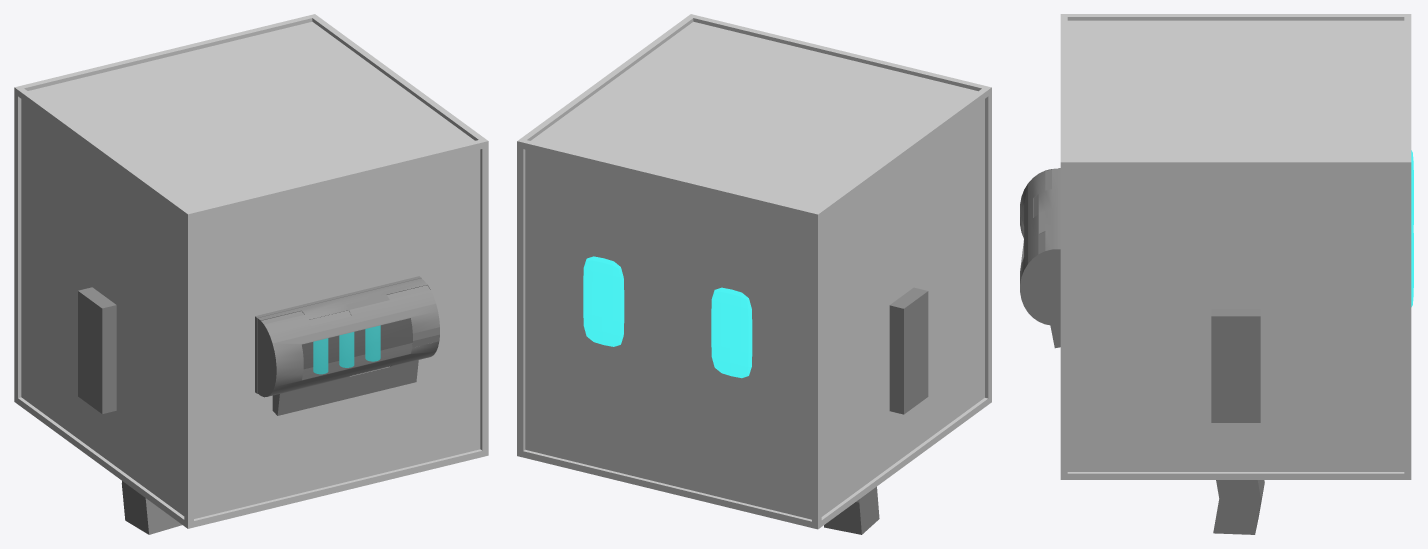
3 renders of one model, left to right at view 1: azimuth 30°, elevation 25°; view 2: azimuth 150°, elevation 25°; view 3: azimuth 270°, elevation 25°, orthographic.
Parts seen in each view (by area): view 1: Body, Back, ArmL, Back2, Back3, Power Cells, LegLLower; view 2: Body, Eyes, ArmL, LegLLower; view 3: Body, ArmR, Back, LegRLower, LegRUpper, Back3.
Part boxes in pixels (left/top/right/bottom): Body: left=14, top=14, right=488, bottom=528; Back: left=257, top=278, right=439, bottom=397; ArmL: left=78, top=287, right=116, bottom=414; Back2: left=272, top=360, right=418, bottom=415; Back3: left=255, top=276, right=421, bottom=393; Power Cells: left=313, top=325, right=380, bottom=374; LegLLower: left=122, top=484, right=181, bottom=534; Body: left=517, top=14, right=991, bottom=529; Eyes: left=583, top=256, right=752, bottom=378; ArmL: left=889, top=287, right=928, bottom=414; LegLLower: left=824, top=487, right=879, bottom=534; Body: left=1060, top=14, right=1411, bottom=479; ArmR: left=1211, top=309, right=1260, bottom=422; Back: left=1020, top=168, right=1058, bottom=325; LegRLower: left=1213, top=487, right=1263, bottom=534; LegRUpper: left=1216, top=480, right=1264, bottom=500; Back3: left=1058, top=168, right=1060, bottom=325.
Size of the model in its own units: 216 by 245 by 225.
